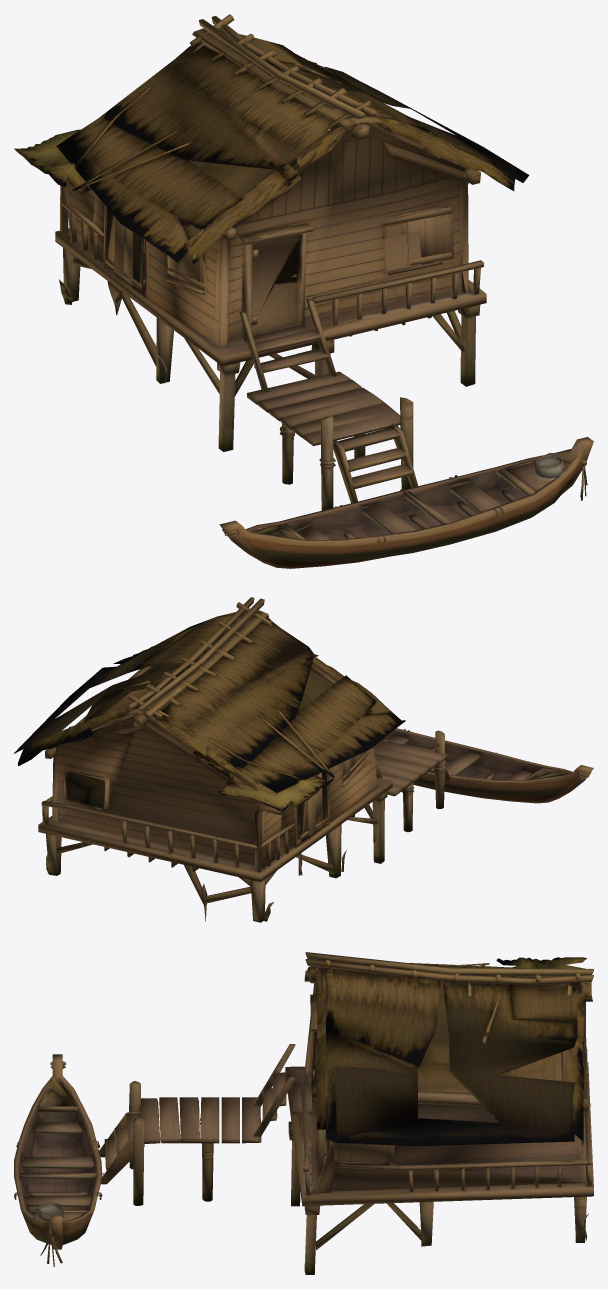
Rendered from selected.glb.
The picture shows the model from 3 angles, top to bottom: view 1: azimuth 30°, elevation 25°; view 2: azimuth 150°, elevation 25°; view 3: azimuth 270°, elevation 25°; orthographic projection. The views are drawn at different scales.
Parts seen in each view (by area): view 1: tripo_node_00b84ec3-e8ef-401c-9178-7ecbf2bdaaf6; view 2: tripo_node_00b84ec3-e8ef-401c-9178-7ecbf2bdaaf6; view 3: tripo_node_00b84ec3-e8ef-401c-9178-7ecbf2bdaaf6.
Part boxes in pixels (box(x1,y1,x2,y2)): tripo_node_00b84ec3-e8ef-401c-9178-7ecbf2bdaaf6: box(14, 14, 593, 568); tripo_node_00b84ec3-e8ef-401c-9178-7ecbf2bdaaf6: box(14, 597, 593, 922); tripo_node_00b84ec3-e8ef-401c-9178-7ecbf2bdaaf6: box(14, 952, 593, 1274).
Bounding box in the file's own units: 0.834 × 0.5488 × 0.998.
Materials: 1 (1 with a texture image).
